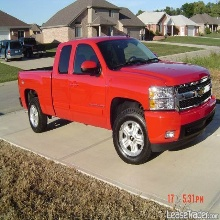no damage: (17, 35, 217, 165), (1, 36, 46, 62)
